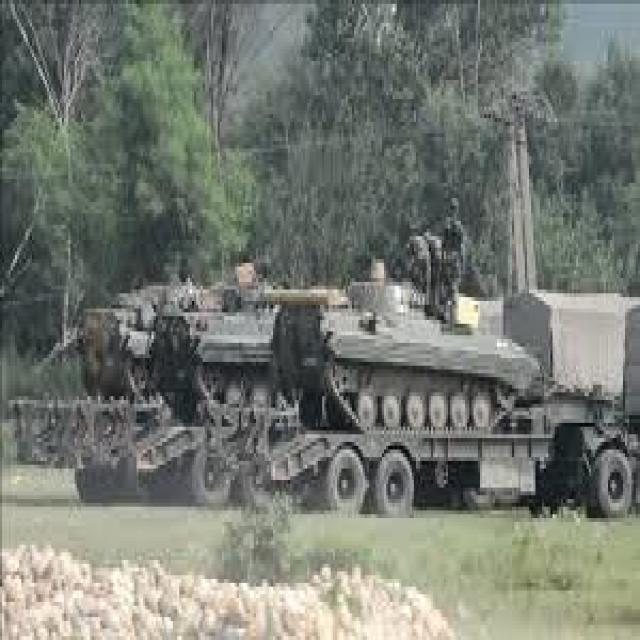Tanks: (277, 261, 538, 425), (72, 195, 154, 392), (165, 295, 270, 406)
